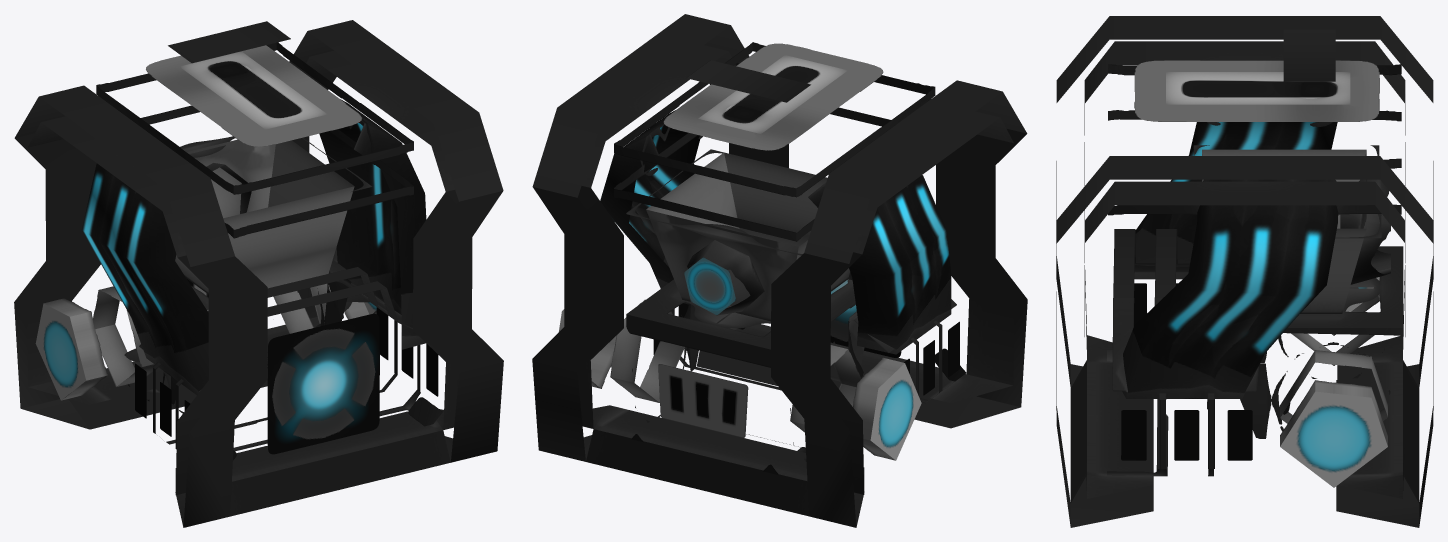
Rendered from obj_interactive_gasengine_04_off_lod1.fbx.
3 renders of one model, left to right at view 1: azimuth 30°, elevation 25°; view 2: azimuth 150°, elevation 25°; view 3: azimuth 270°, elevation 25°, orthographic. The views are drawn at different scales.
Parts seen in each view (by area): view 1: polySurface22; view 2: polySurface22; view 3: polySurface22.
Part boxes in pixels (bbox=[...]): polySurface22: bbox=[14, 20, 503, 527]; polySurface22: bbox=[532, 14, 1027, 527]; polySurface22: bbox=[1056, 16, 1433, 527].
Size of the model in its own units: 2.01 by 2.23 by 1.95.
Materials: 1 (1 with a texture image).
